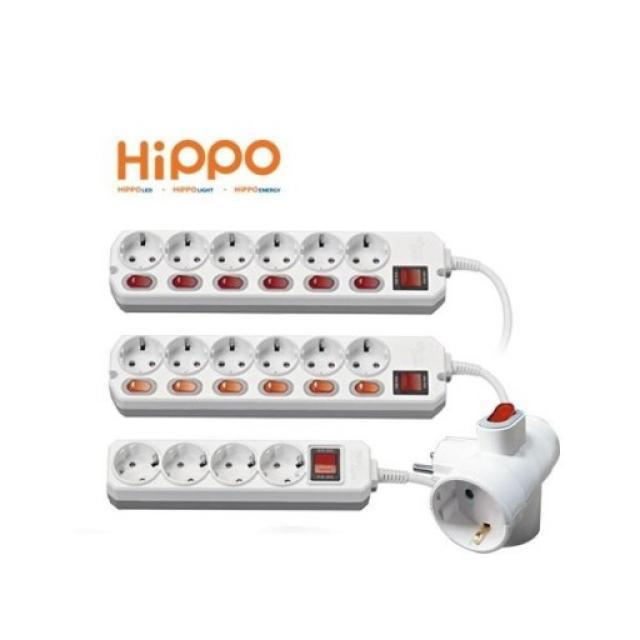typeb: (110, 221, 473, 319), (107, 328, 462, 422), (99, 436, 398, 526)
